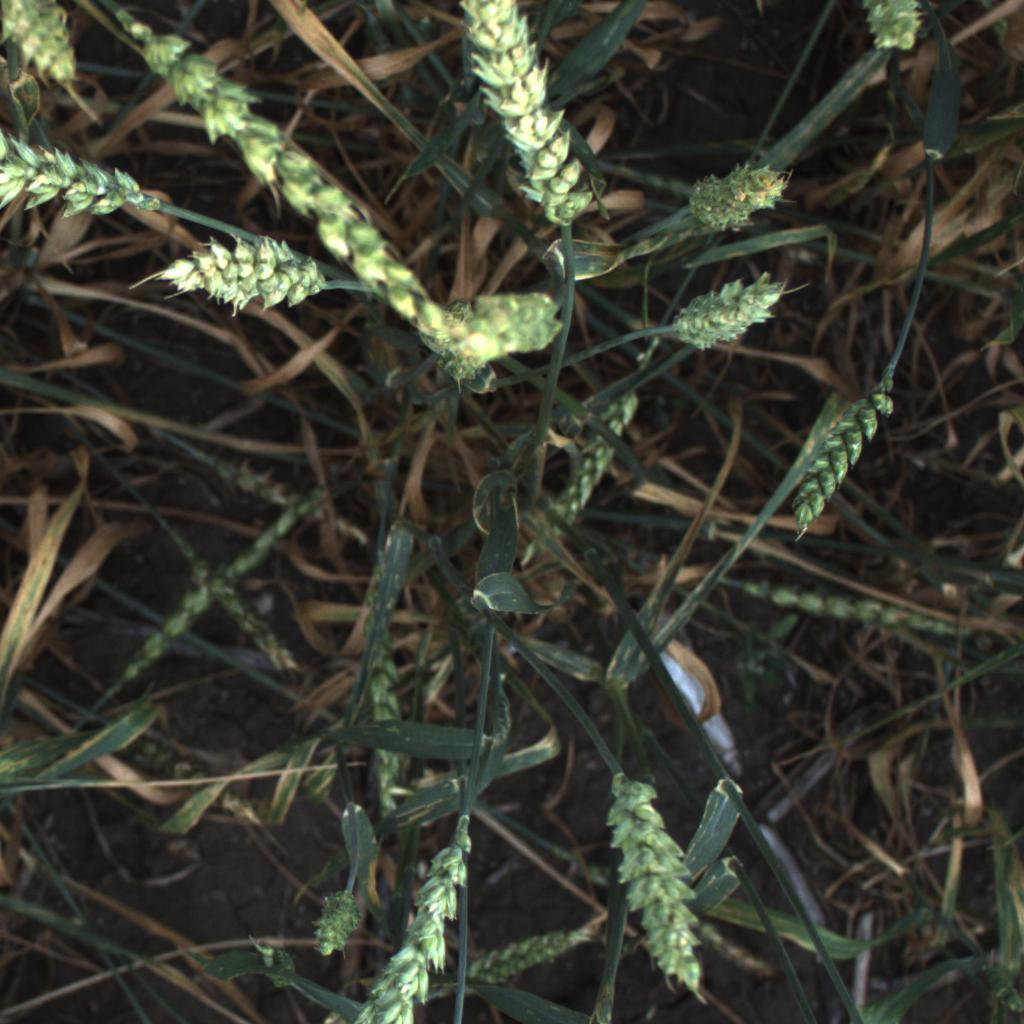0-0: (118, 7, 461, 354), (453, 0, 597, 235), (599, 758, 712, 1009), (361, 798, 486, 1024), (131, 218, 338, 332), (513, 384, 662, 542), (782, 357, 903, 542), (0, 127, 163, 225), (431, 282, 578, 381), (669, 148, 810, 247), (657, 263, 804, 354), (467, 911, 582, 998), (0, 0, 88, 90), (302, 876, 376, 972), (844, 0, 937, 65)
